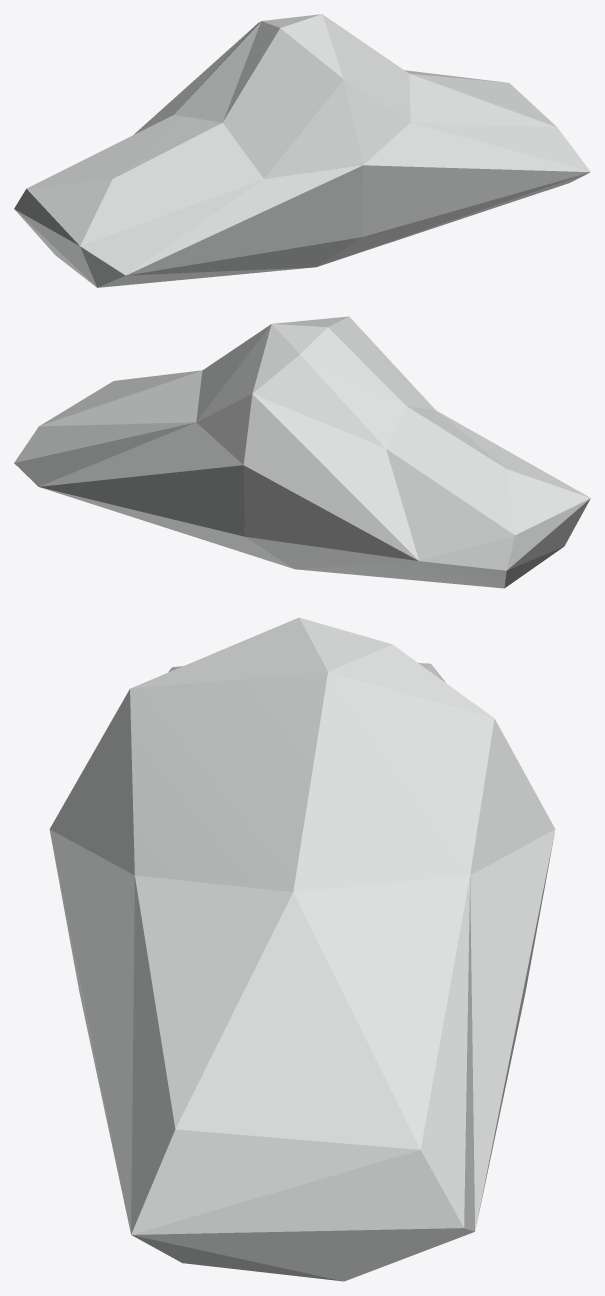
The model's file is cloud_13.fbx.
3 renders of one model, top to bottom at view 1: azimuth 30°, elevation 25°; view 2: azimuth 150°, elevation 25°; view 3: azimuth 270°, elevation 25°, orthographic. The views are drawn at different scales.
Parts seen in each view (by area): view 1: cloud_13; view 2: cloud_13; view 3: cloud_13.
Boxes of the visible parts, bbox=[...] form: cloud_13: bbox=[14, 14, 590, 287]; cloud_13: bbox=[14, 316, 590, 588]; cloud_13: bbox=[49, 617, 555, 1281].
Bounding box in the file's own units: 715 × 320 × 311.
